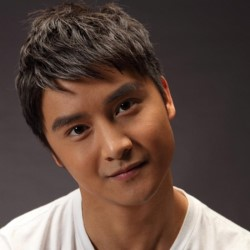unmask: (50, 67, 176, 210)
